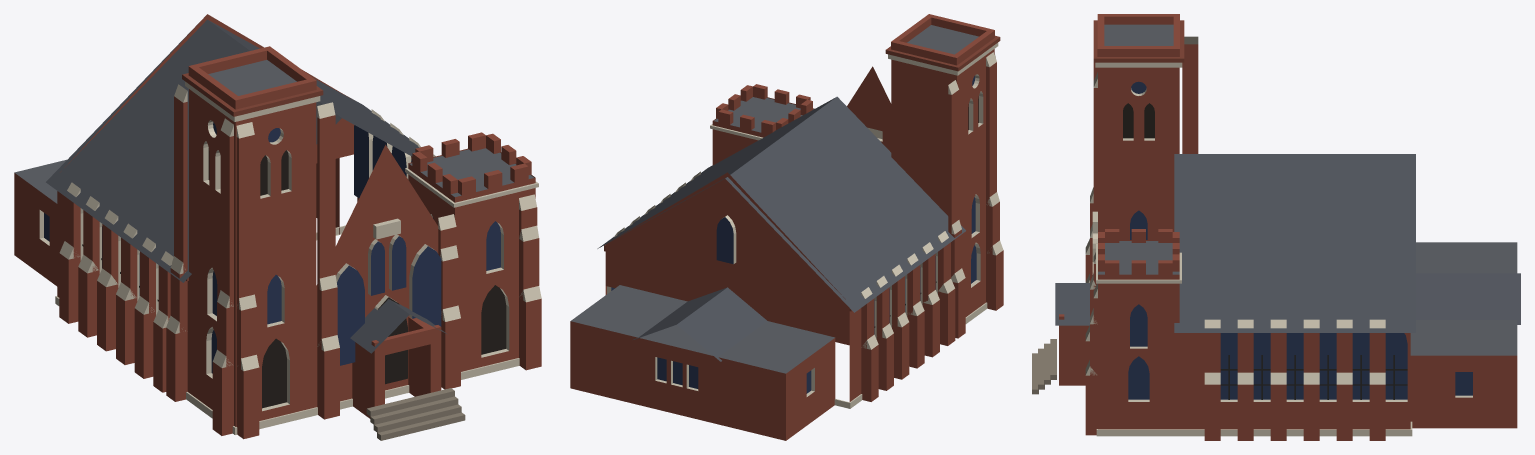
Rendered from first-baptist-church.glb.
The picture shows the model from 3 angles, left to right: view 1: azimuth 30°, elevation 25°; view 2: azimuth 150°, elevation 25°; view 3: azimuth 270°, elevation 25°; orthographic projection. The views are drawn at different scales.
Visible parts, largest first — view 1: first_brick, first_slate, first_stone, first_glass, first_roof, first_dark, first_base, first_brick2; view 2: first_brick, first_slate, first_roof, first_stone, first_glass, first_brick2; view 3: first_brick, first_slate, first_roof, first_glass, first_stone, first_base, first_lead, first_brick2, first_dark.
Part boxes in pixels (x1,y1,x2,y2): first_brick: (14, 14, 541, 439); first_slate: (46, 19, 447, 353); first_stone: (39, 81, 541, 434); first_glass: (44, 122, 500, 373); first_roof: (14, 60, 534, 203); first_dark: (208, 148, 506, 408); first_base: (366, 388, 465, 440); first_brick2: (182, 73, 323, 281); first_brick: (570, 14, 1003, 440); first_slate: (597, 96, 965, 361); first_roof: (570, 25, 978, 373); first_stone: (607, 42, 1003, 408); first_glass: (611, 76, 976, 393); first_brick2: (604, 35, 1000, 311); first_brick: (1059, 14, 1517, 440); first_slate: (1055, 154, 1520, 332); first_roof: (1098, 24, 1517, 355); first_glass: (1128, 81, 1472, 399); first_stone: (1085, 36, 1472, 436); first_base: (1032, 339, 1056, 394); first_lead: (1220, 355, 1407, 399); first_brick2: (1093, 20, 1184, 62); first_dark: (1123, 103, 1154, 138).
Size of the model in its own units: 18.5 by 18.5 by 27.51.
